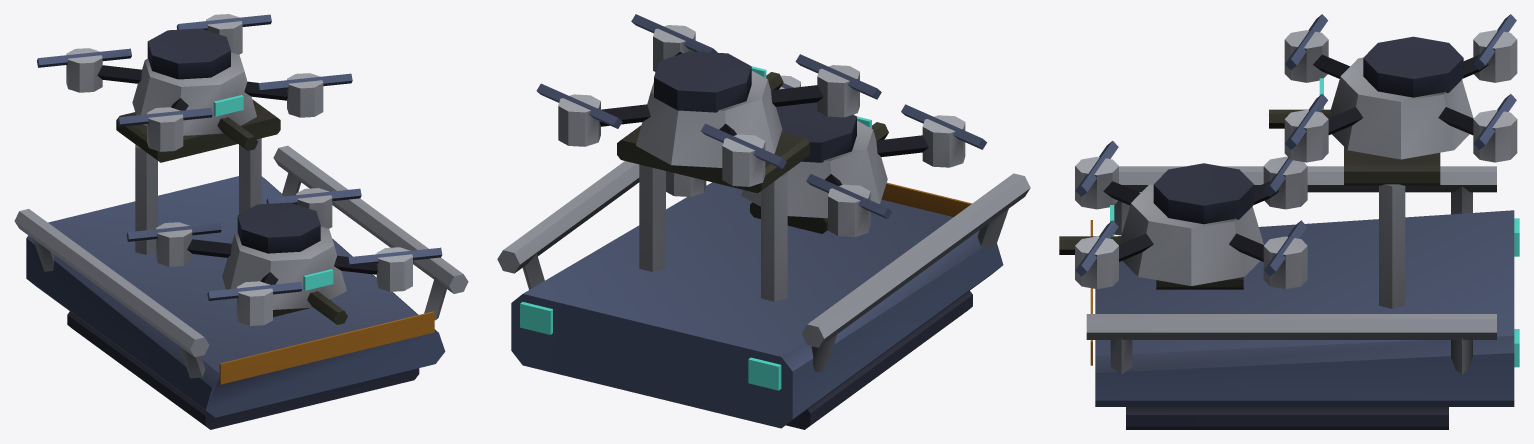
File: sh-drones.glb
3 renders of one model, left to right at view 1: azimuth 30°, elevation 25°; view 2: azimuth 150°, elevation 25°; view 3: azimuth 270°, elevation 25°, orthographic. The views are drawn at different scales.
Visible parts, largest first — view 1: Body, Glow; view 2: Body, Glow; view 3: Body, Glow.
Part boxes in pixels (x1,y1,x2,y2): Body: [14, 14, 468, 429]; Glow: [213, 95, 333, 290]; Body: [497, 14, 1030, 429]; Glow: [520, 66, 871, 390]; Body: [1059, 14, 1517, 429]; Glow: [1110, 78, 1519, 367].
Bounding box in the file's own units: 0.86 × 0.7936 × 1.05.
